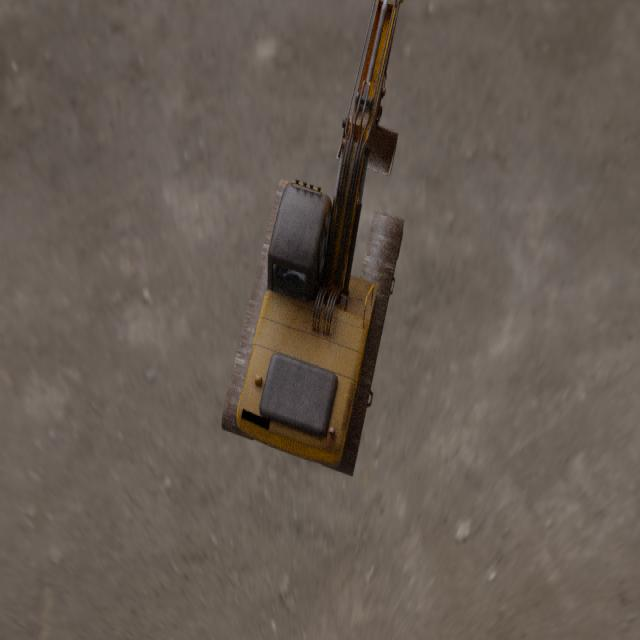excavator: (220, 0, 404, 477)
